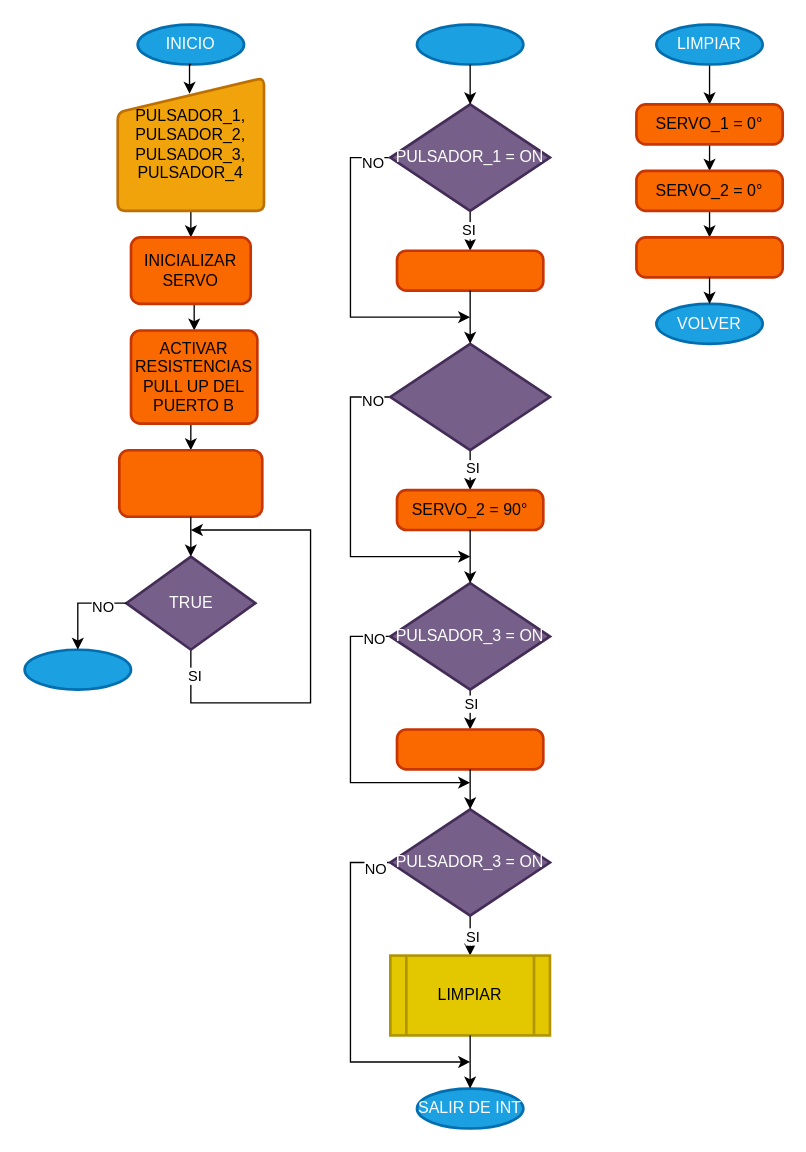
The diagram is 806 pixels wide and 1152 high, and some of its shapes have lost their labels. Here are the shapes that lost their labels. From the top down, the box of each, then its label:
(415, 23, 524, 65): INT_RBI
(395, 249, 544, 291): SERVO_1 = 180°
(634, 235, 783, 278): SERVO_3 = 0°
(388, 342, 551, 451): PULSADOR_2 = ON
(117, 448, 263, 517): HABILITAR INTERRUPCION RBI
(23, 648, 132, 690): FIN
(395, 728, 544, 770): SERVO_3 = 180°
